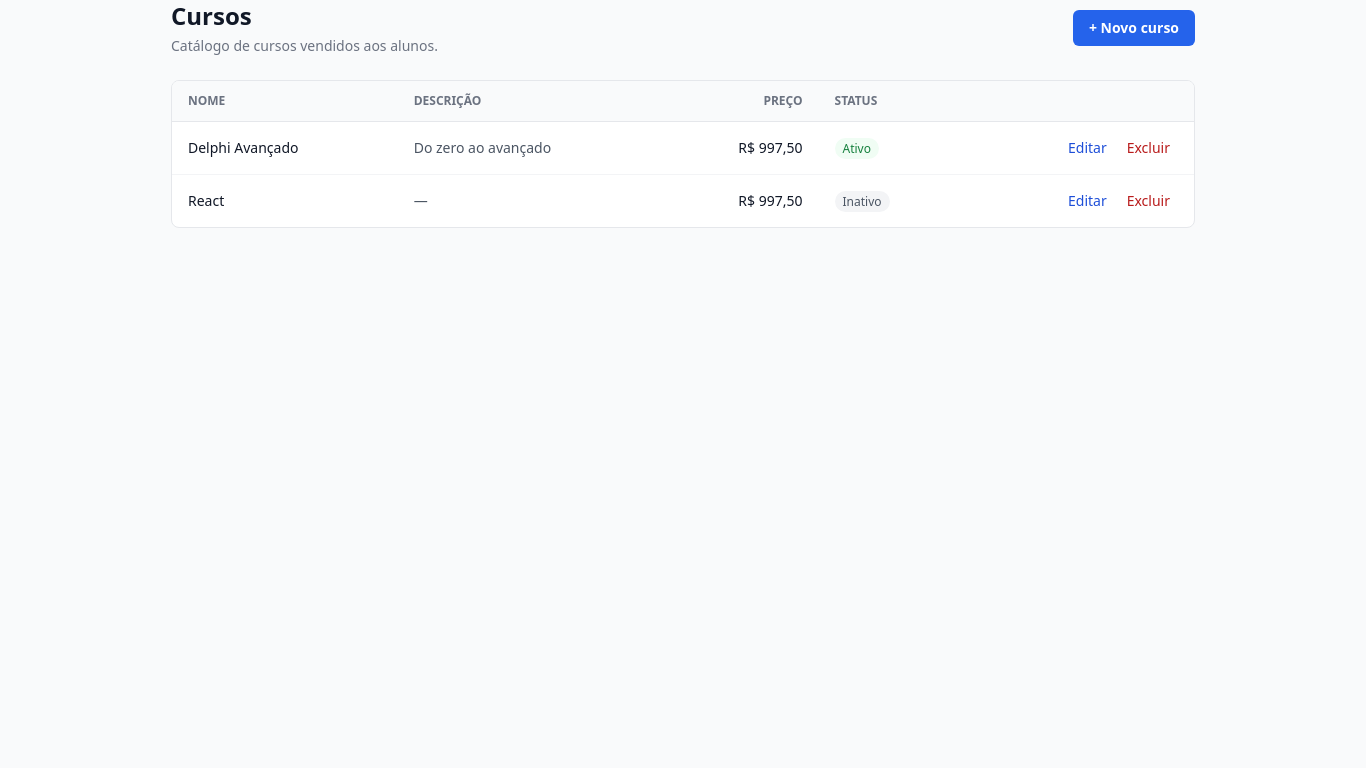
página de cursos › curso com compras: mostra o motivo e mantém o dialog aberto
Click the button with aria-label "Excluir Delphi Avançado" at [1148, 148], box [1119, 134, 1178, 162]
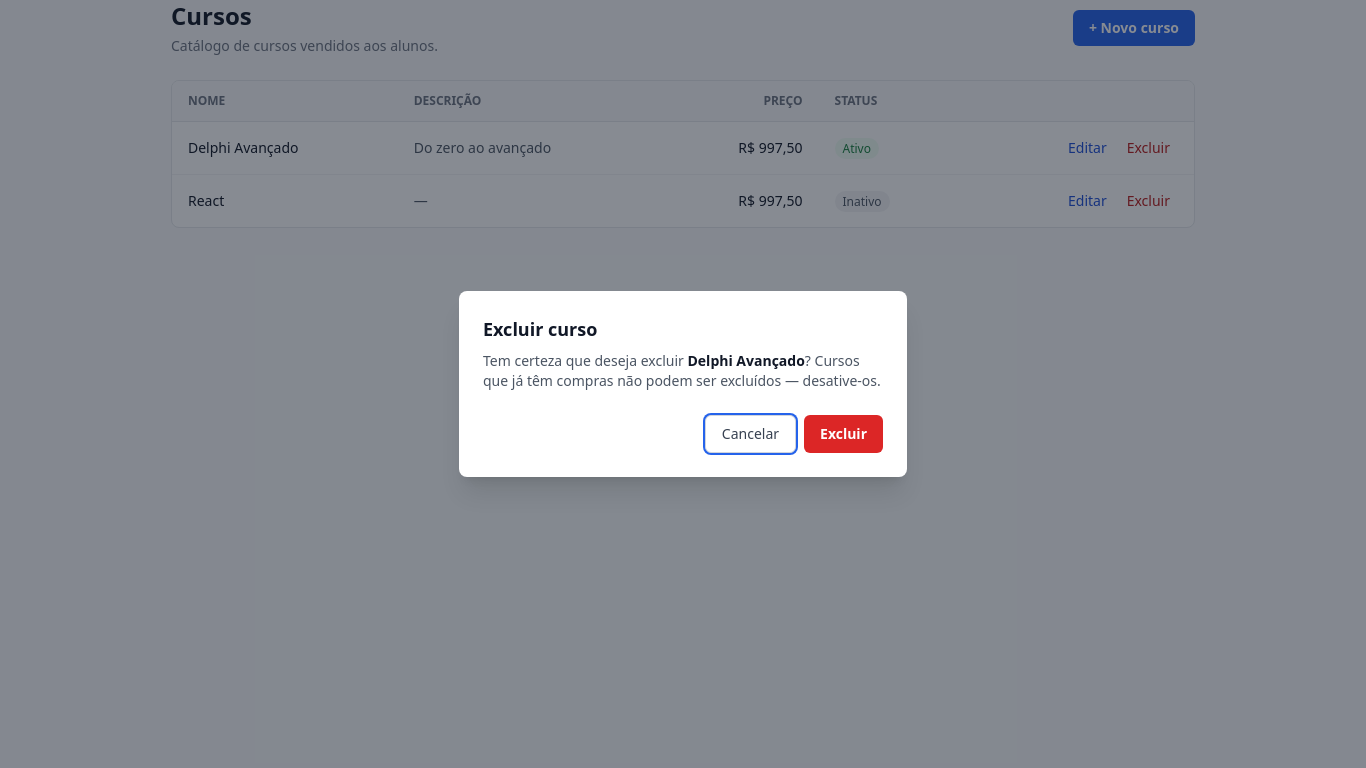
Click the button "Excluir" at [844, 434], box [804, 415, 883, 453]
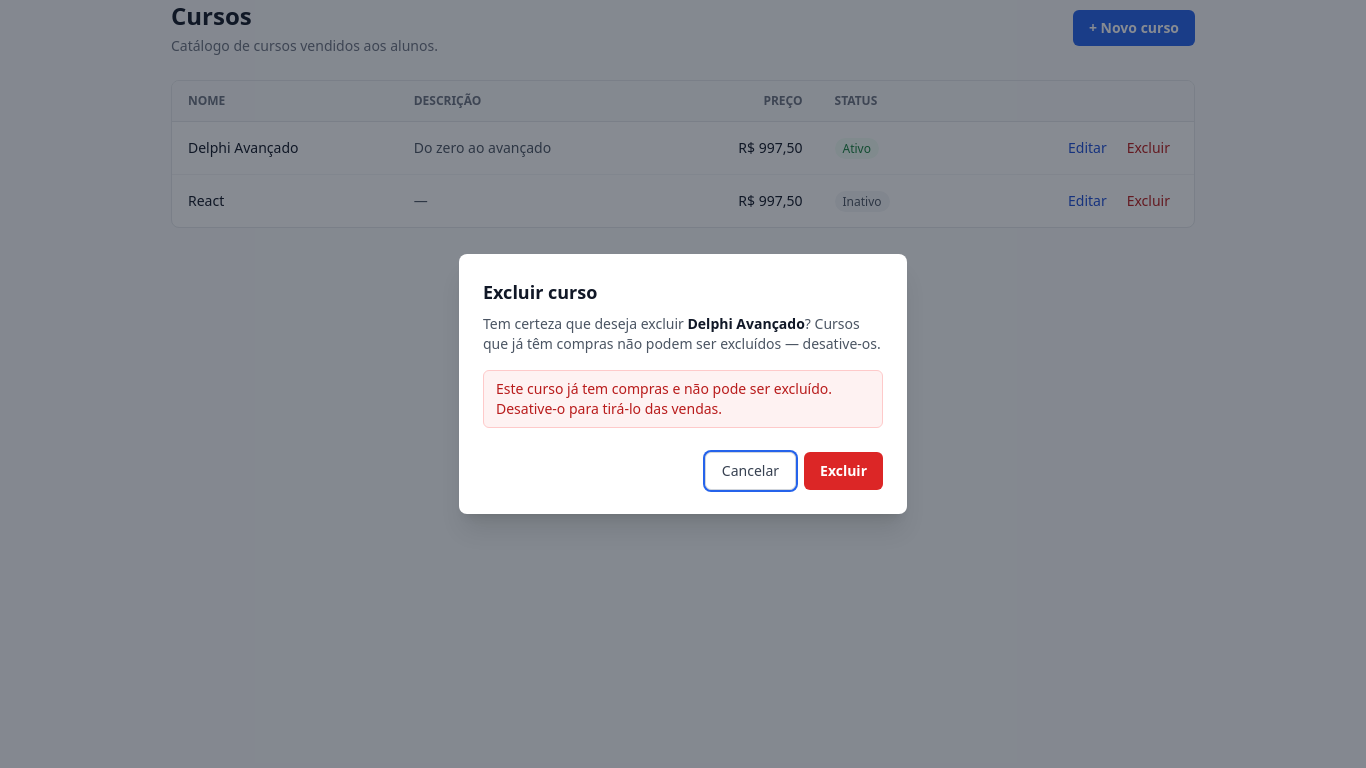
Check: the text "já tem compras e não pode ser excluído" is shown, box [496, 379, 832, 418]
